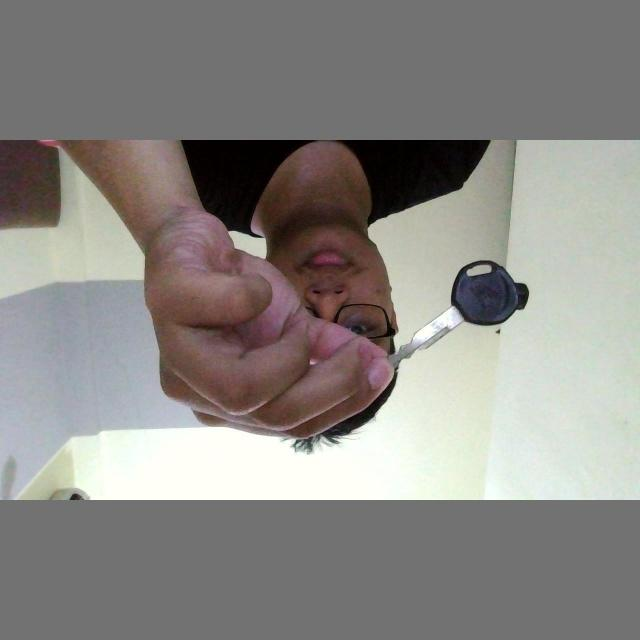Keys: (392, 255, 534, 389)
